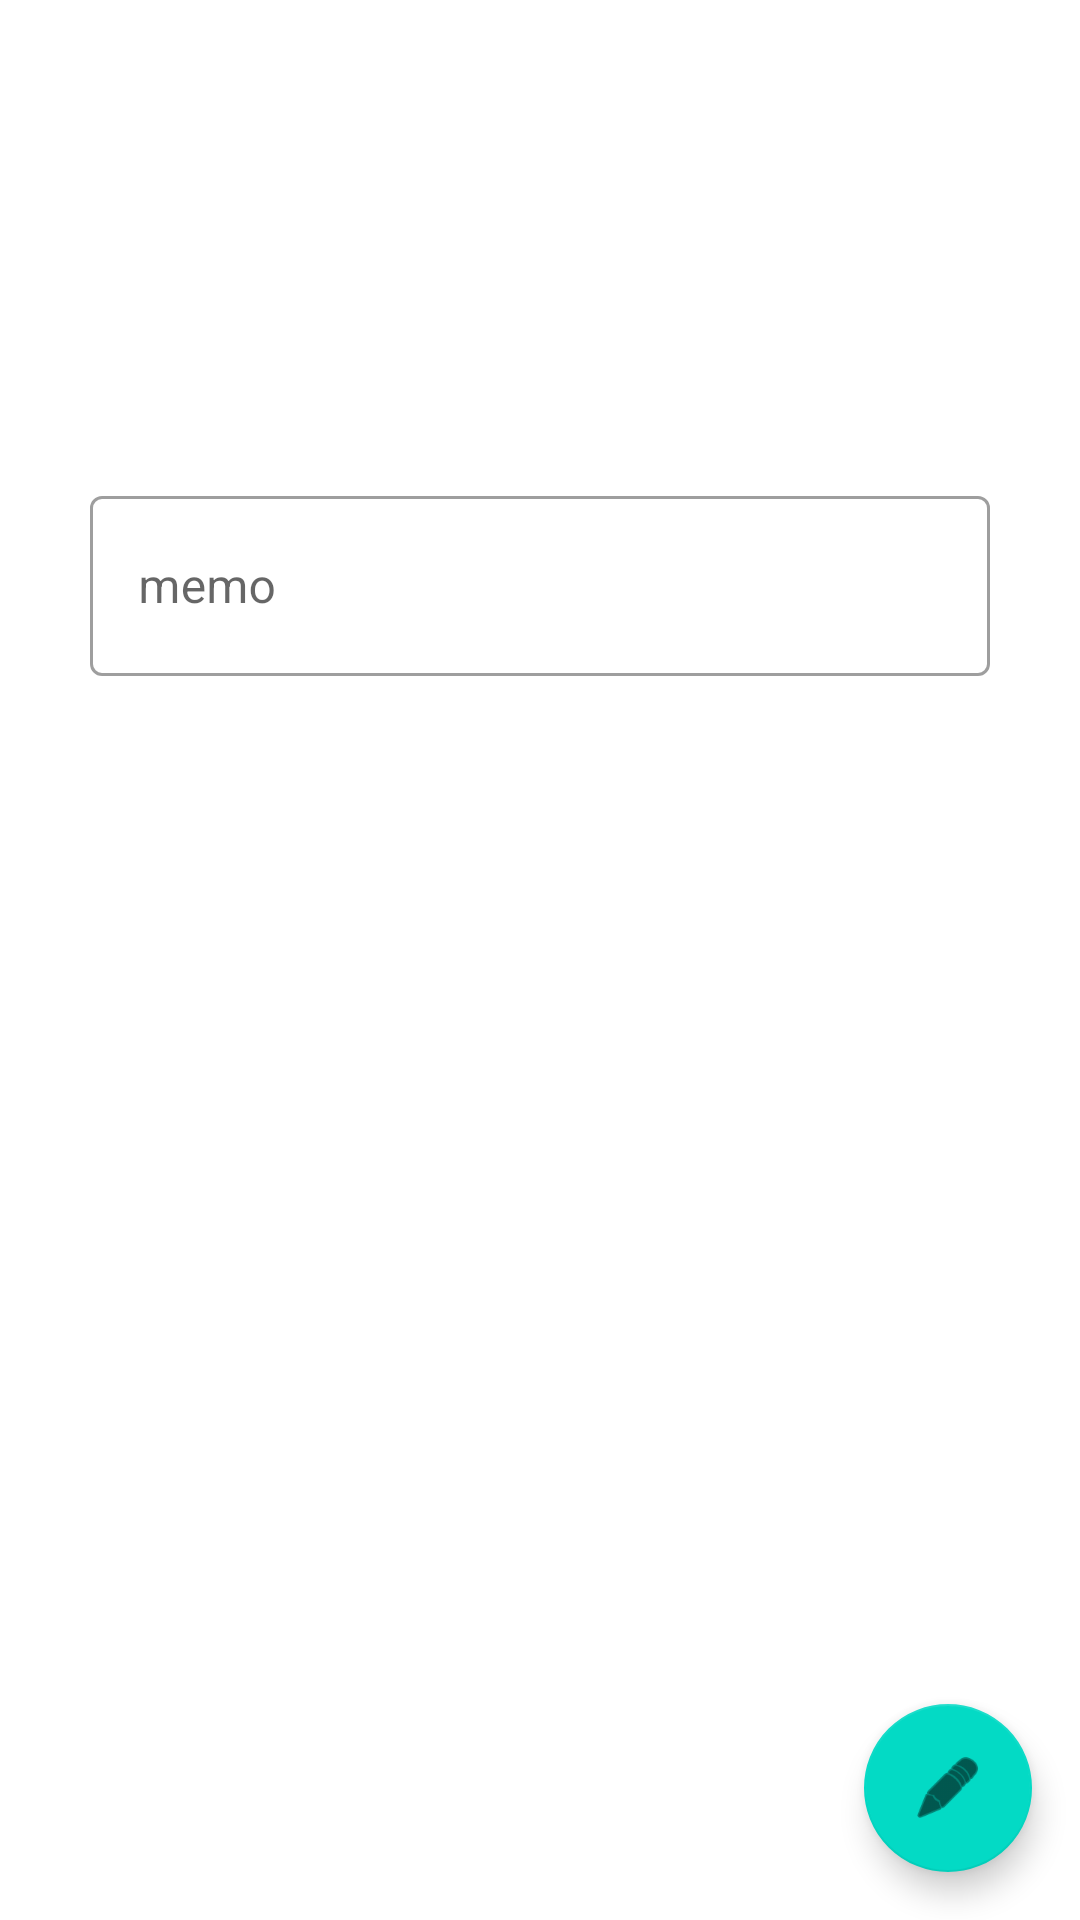

Icon bounding boxes for this 1080×1920 phone screenshot, format (x1, y1, x2, y2):
edit: (864, 1704, 1032, 1872)
